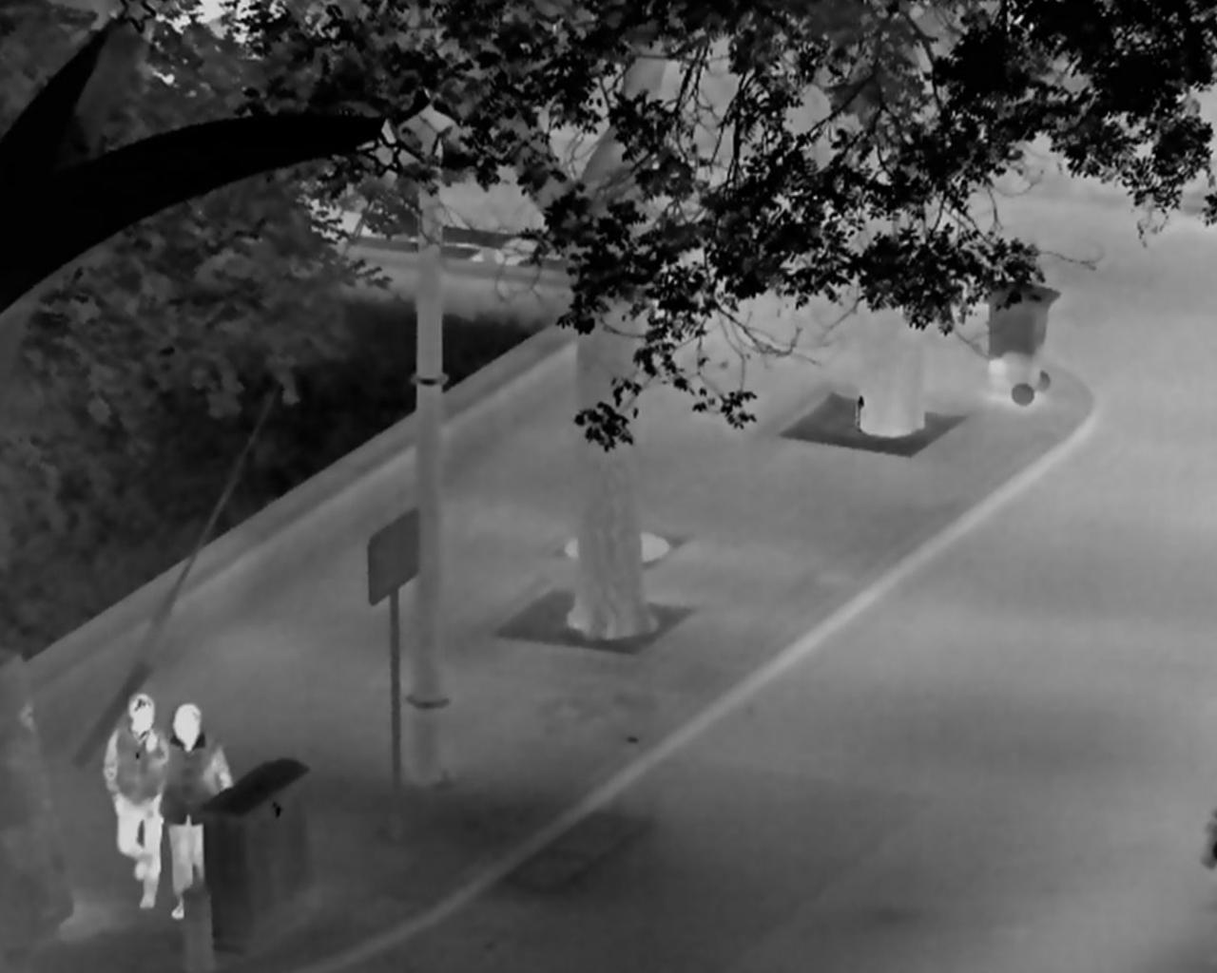person: (161, 702, 236, 921), (102, 692, 166, 909)
